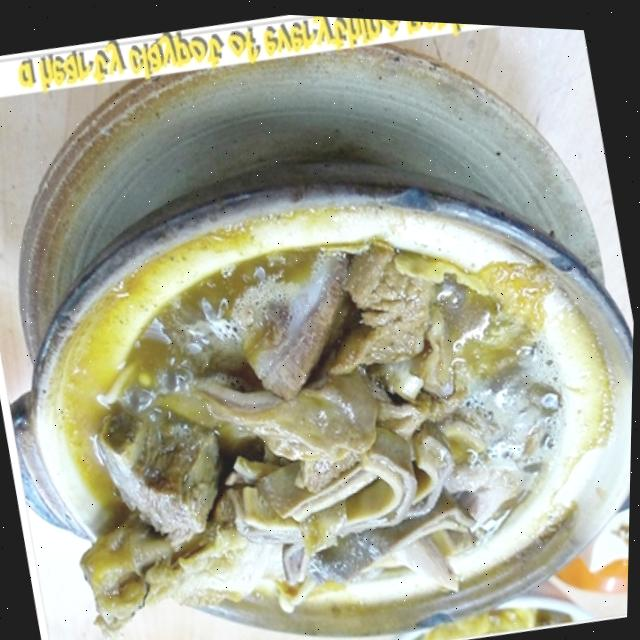汤锅炖物: (19, 153, 637, 640)
